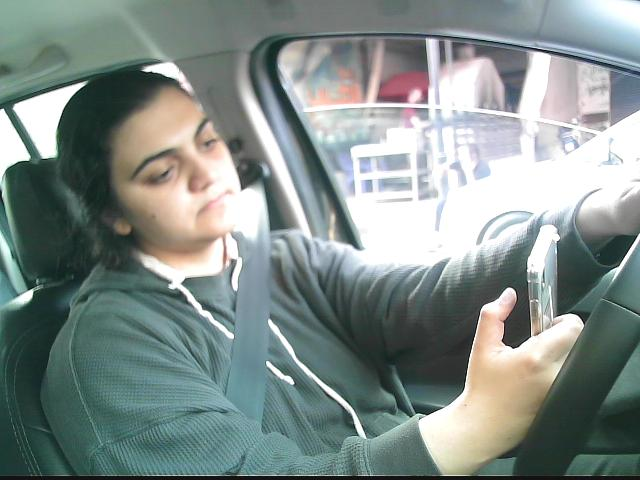PhoneUse: (527, 223, 564, 377)
